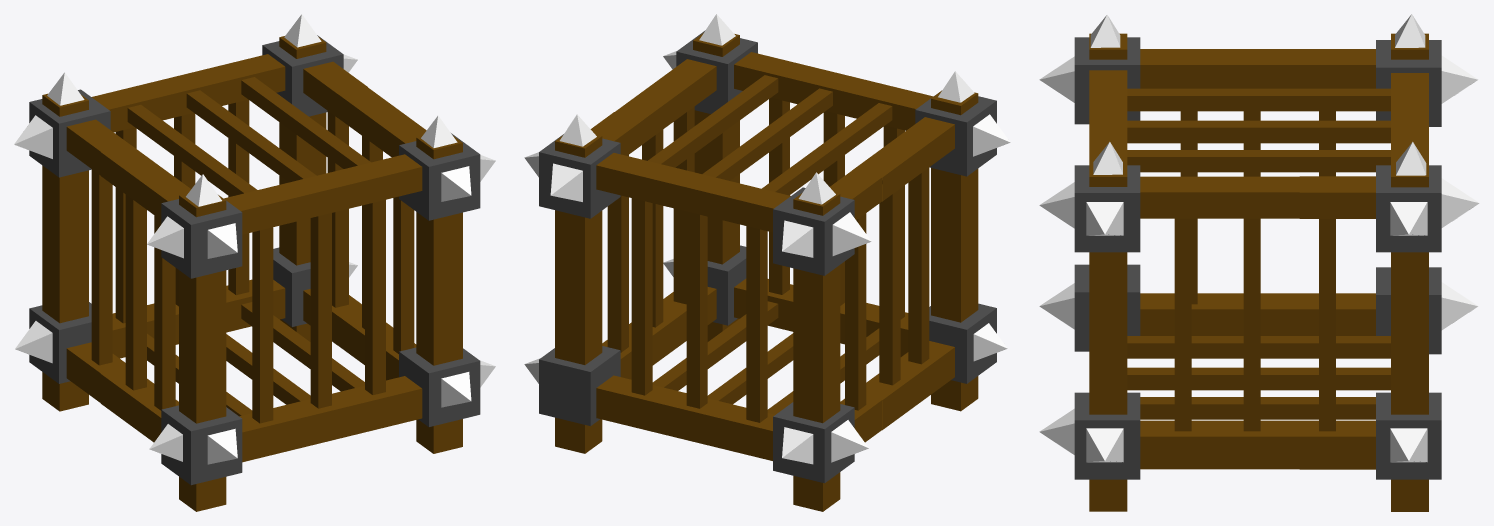
File: CAGE.fbx
3 renders of one model, left to right at view 1: azimuth 30°, elevation 25°; view 2: azimuth 150°, elevation 25°; view 3: azimuth 270°, elevation 25°, orthographic. The views are drawn at different scales.
Visible parts, largest first — view 1: pCube136; view 2: pCube136; view 3: pCube136.
Boxes of the visible parts, box(x1,y1,x2,y2) form: pCube136: box(14, 14, 495, 511); pCube136: box(524, 14, 1010, 511); pCube136: box(1039, 14, 1479, 511).
Bounding box in the file's own units: 575 × 520 × 572.
